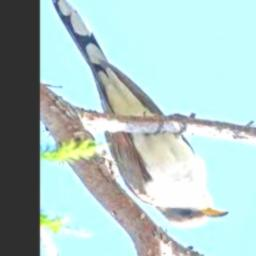Cuckoo: (51, 0, 231, 228)
